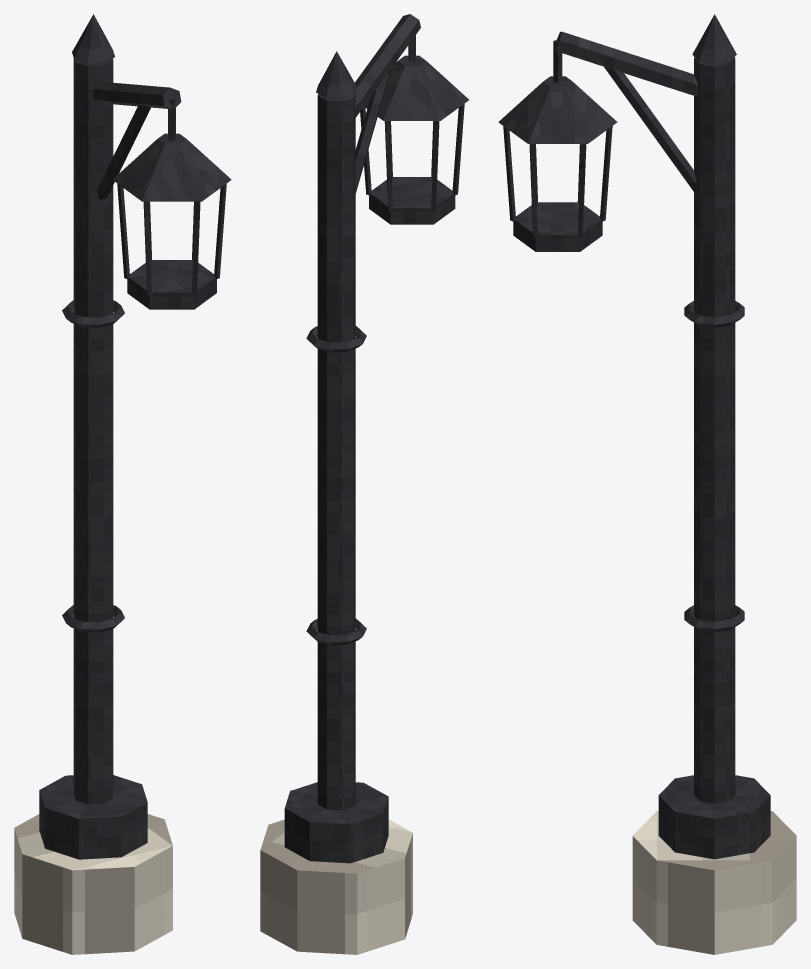
The model's file is street_lamp_off.obj.
3 views of the same model, side by side, from view 1: azimuth 30°, elevation 25°; view 2: azimuth 150°, elevation 25°; view 3: azimuth 270°, elevation 25° (orthographic). The views are drawn at different scales.
Parts seen in each view (by area): view 1: street_lamp; view 2: street_lamp; view 3: street_lamp.
Part boxes in pixels (x1=…): street_lamp: x1=14, y1=14, x2=231, y2=954; street_lamp: x1=260, y1=14, x2=468, y2=954; street_lamp: x1=498, y1=14, x2=796, y2=954.
Bounding box in the file's own units: 0.44 × 2.68 × 0.8.
